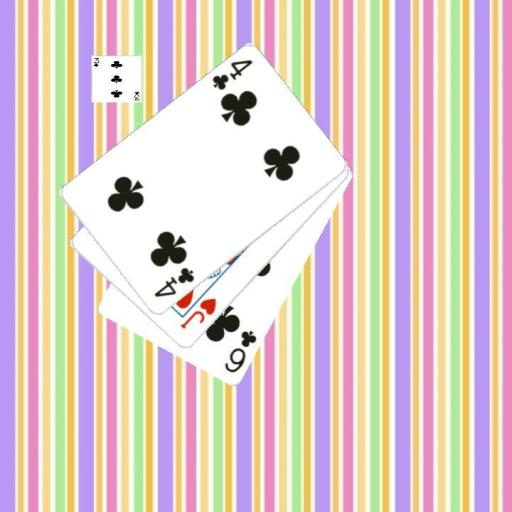4C: (209, 56, 255, 93), (151, 264, 196, 299)
6C: (221, 328, 259, 375)
JH: (177, 295, 218, 331)
